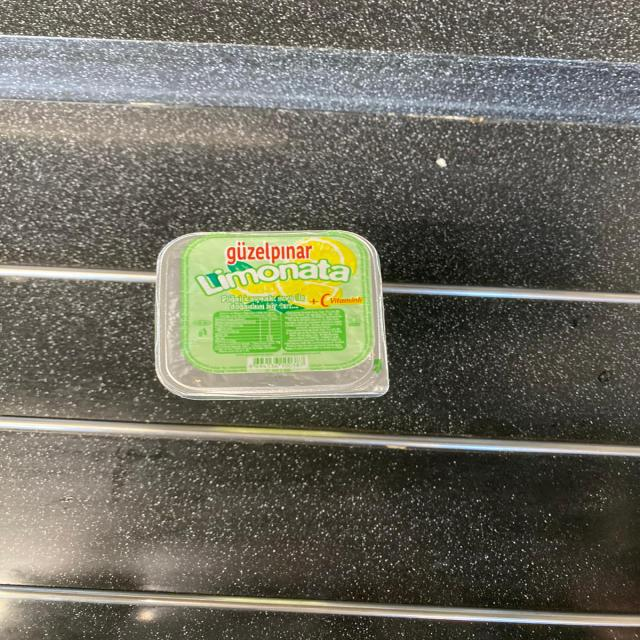yan_yemek: (153, 228, 390, 400)
